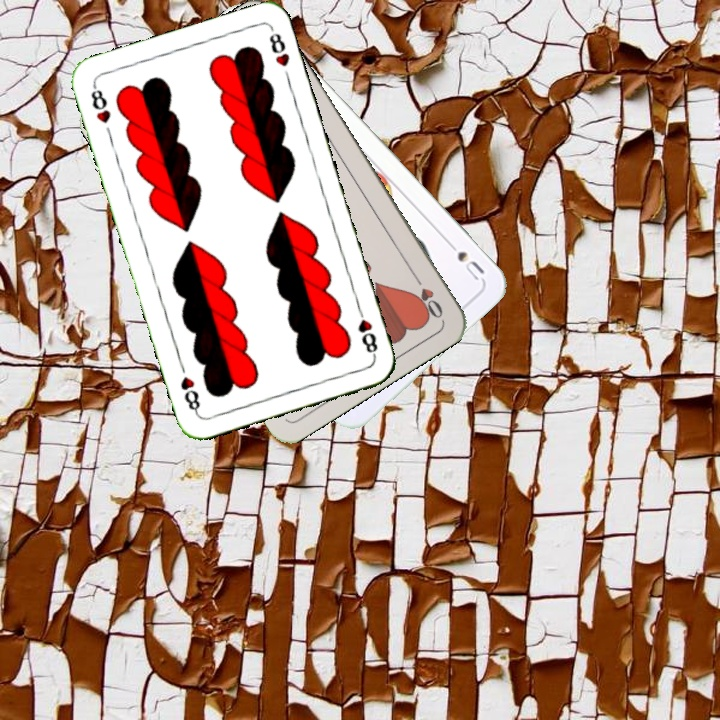H8: (353, 302, 380, 360), (87, 81, 113, 126)
HO: (408, 269, 446, 321)
SU: (440, 235, 487, 283)
